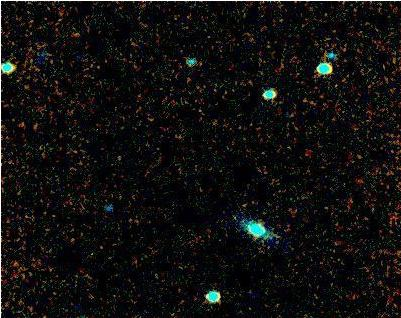star: (239, 212, 269, 242)
